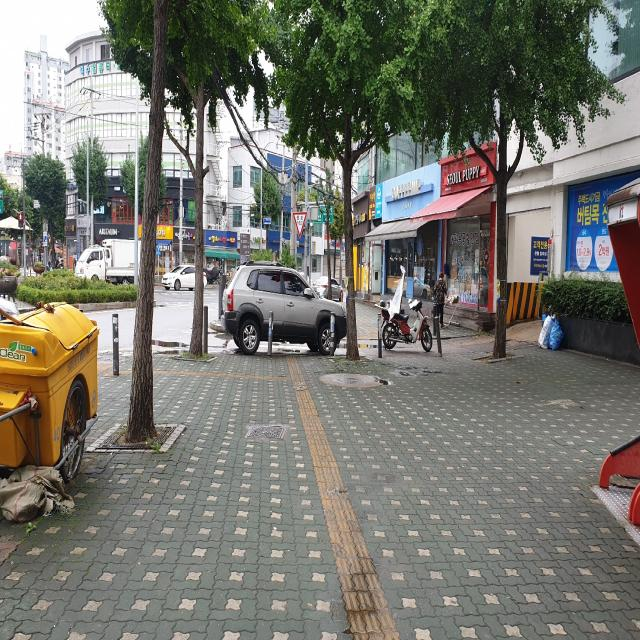car: (221, 261, 347, 356), (74, 238, 140, 286), (162, 265, 207, 291)
motorbike: (381, 290, 433, 352)
